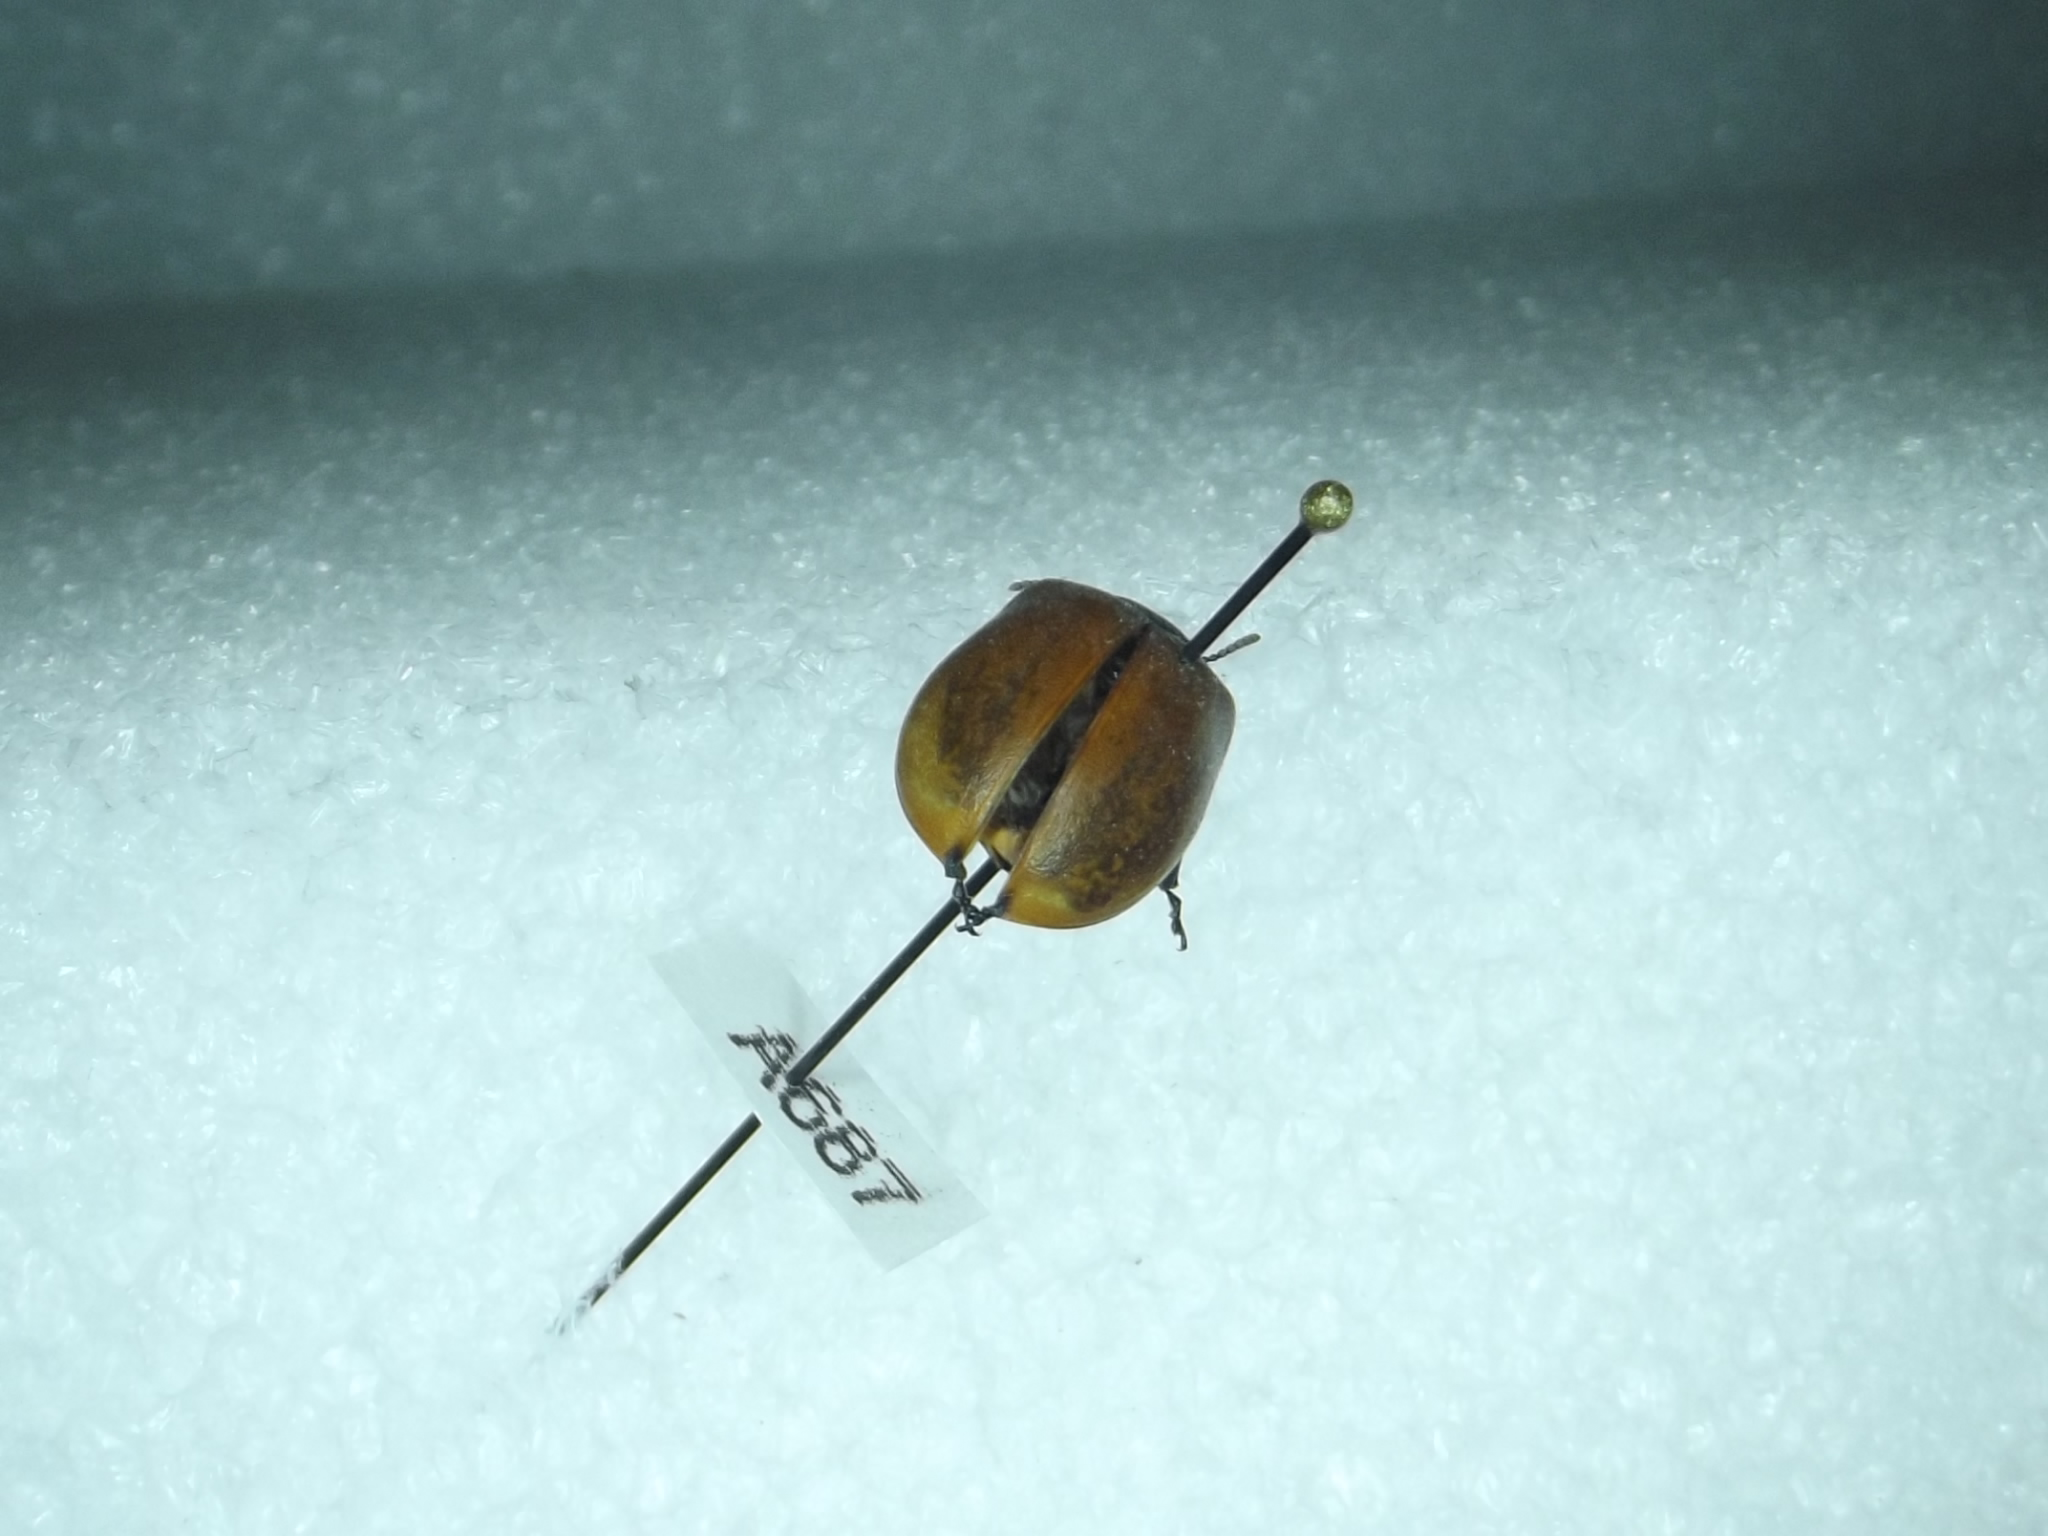Chrysomela_populi: (892, 552, 1285, 963)
